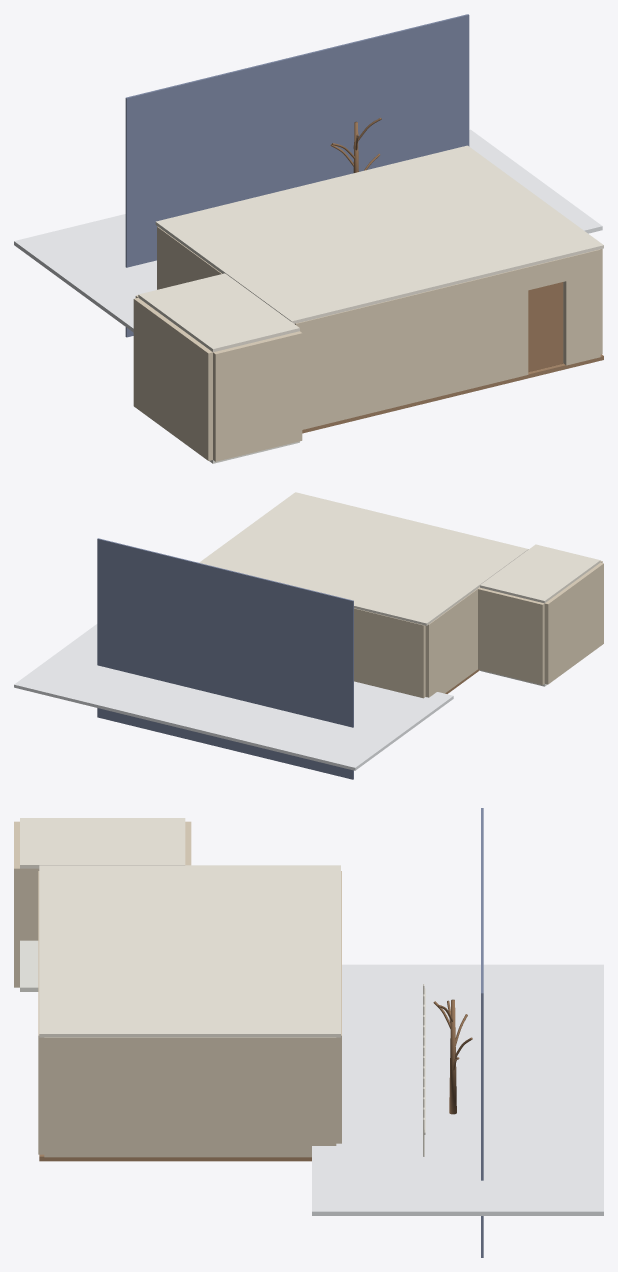
File: room.glb
3 views of the same model, one above another, from view 1: azimuth 30°, elevation 25°; view 2: azimuth 150°, elevation 25°; view 3: azimuth 270°, elevation 25° (orthographic). The views are drawn at different scales.
Visible parts, largest first — view 1: SkyBackdrop, Ceiling, WallFront, OutsideSnow, KitchenWallS, KitchenWallBack, KitchenCeiling, DoorSlab, WallLeft, Floor; view 2: SkyBackdrop, Ceiling, OutsideSnow, KitchenWallN, WallBack, KitchenWallBack, WallLeft, KitchenCeiling; view 3: OutsideSnow, Ceiling, WallRight, KitchenCeiling, KitchenWallBack, Floor, SkyBackdrop, WallFront, OutsideTree, KitchenWallS, KitchenFloor, WallBack.
Part boxes in pixels (bbox=[...]): SkyBackdrop: bbox=[125, 14, 469, 337]; Ceiling: bbox=[155, 145, 603, 323]; WallFront: bbox=[295, 249, 600, 429]; OutsideSnow: bbox=[14, 129, 602, 332]; KitchenWallS: bbox=[213, 331, 302, 461]; KitchenWallBack: bbox=[133, 297, 212, 460]; KitchenCeiling: bbox=[138, 273, 299, 352]; DoorSlab: bbox=[528, 282, 563, 371]; WallLeft: bbox=[157, 226, 221, 289]; Floor: bbox=[302, 354, 603, 433]; SkyBackdrop: bbox=[97, 538, 353, 779]; Ceiling: bbox=[199, 492, 528, 625]; OutsideSnow: bbox=[14, 624, 453, 770]; KitchenWallN: bbox=[478, 587, 544, 684]; WallBack: bbox=[354, 608, 425, 698]; KitchenWallBack: bbox=[544, 562, 603, 684]; WallLeft: bbox=[425, 587, 479, 697]; KitchenCeiling: bbox=[480, 544, 600, 603]; OutsideSnow: bbox=[312, 964, 603, 1215]; Ceiling: bbox=[39, 865, 340, 1037]; WallRight: bbox=[44, 1037, 336, 1157]; KitchenCeiling: bbox=[20, 818, 185, 868]; KitchenWallBack: bbox=[20, 868, 39, 940]; Floor: bbox=[39, 1154, 311, 1161]; SkyBackdrop: bbox=[481, 808, 483, 1257]; WallFront: bbox=[38, 871, 44, 1154]; OutsideTree: bbox=[433, 999, 472, 1114]; KitchenWallS: bbox=[14, 821, 19, 987]; KitchenFloor: bbox=[20, 940, 38, 991]; WallBack: bbox=[336, 871, 341, 1143].
Bounding box in the file's own units: 13.82 × 6 × 12.12.
